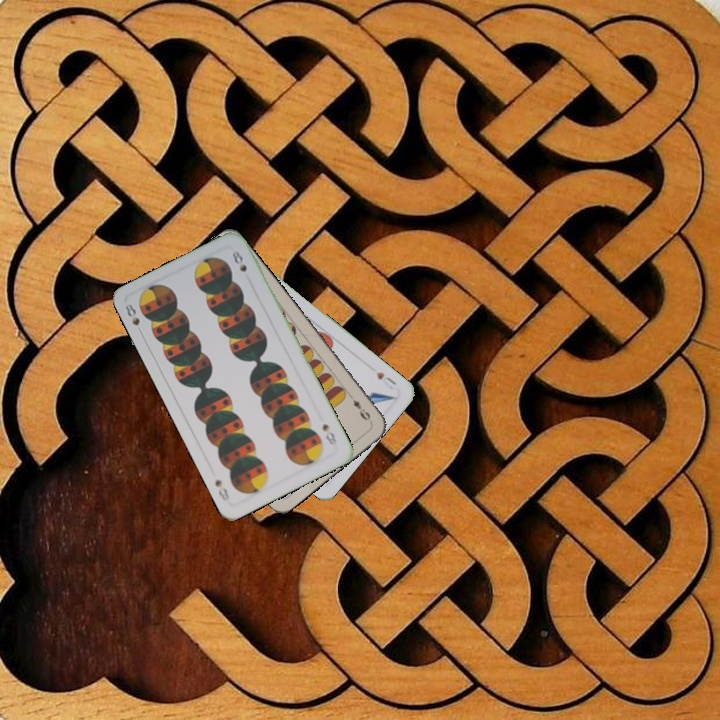E9: (345, 390, 374, 425)
HU: (372, 367, 399, 392)
S8: (121, 299, 146, 338), (318, 420, 339, 447)
